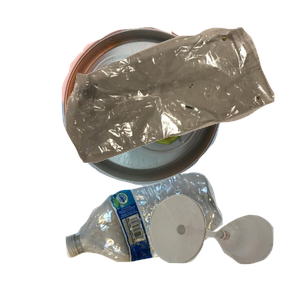glass: (147, 192, 300, 300)
metal: (59, 10, 273, 189)
plastic: (63, 170, 278, 300)
trash: (63, 24, 300, 179)
